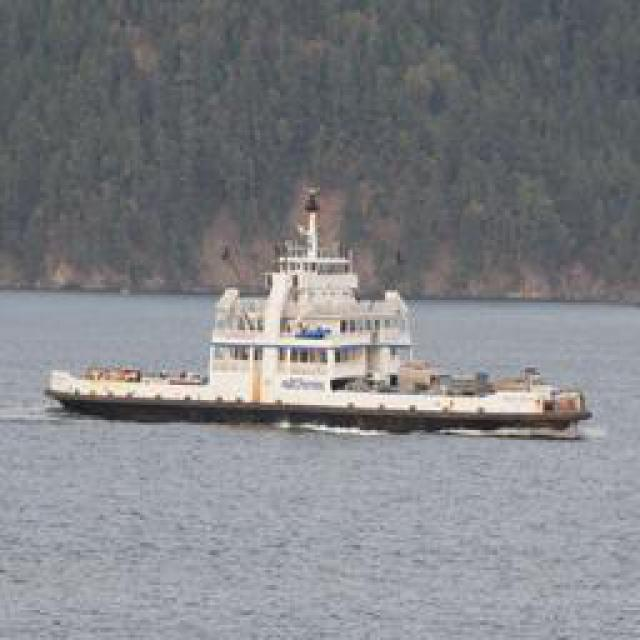Ship: (39, 247, 602, 440)
